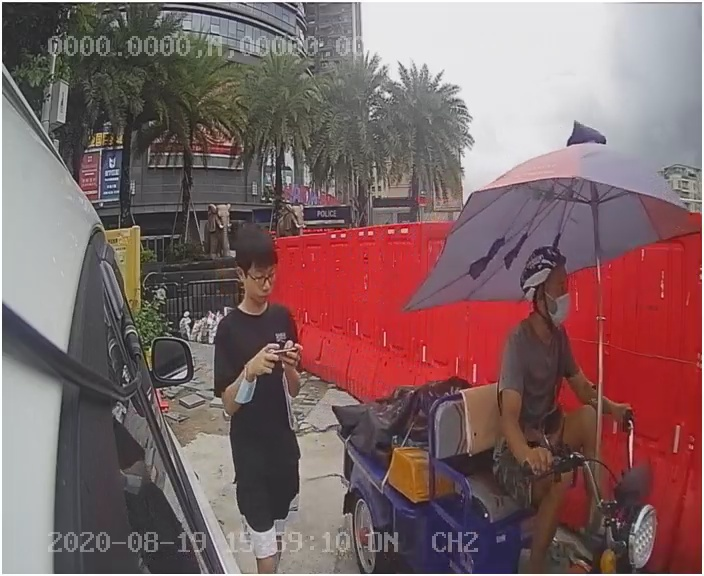person: (202, 220, 324, 537)
